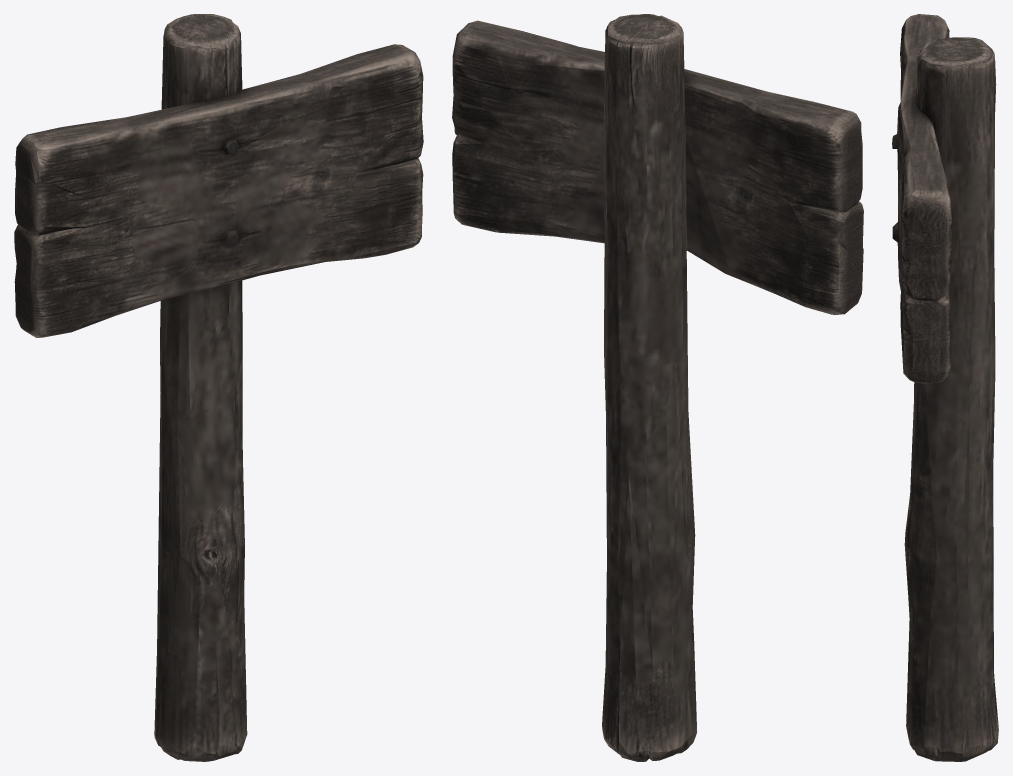
Rendered from away_sign_game.glb.
The picture shows the model from 3 angles, left to right: view 1: azimuth 30°, elevation 25°; view 2: azimuth 150°, elevation 25°; view 3: azimuth 270°, elevation 25°; orthographic projection. The views are drawn at different scales.
Size of the model in its own units: 1.08 by 1.9 by 0.2613.
1 material, 1 textured.
